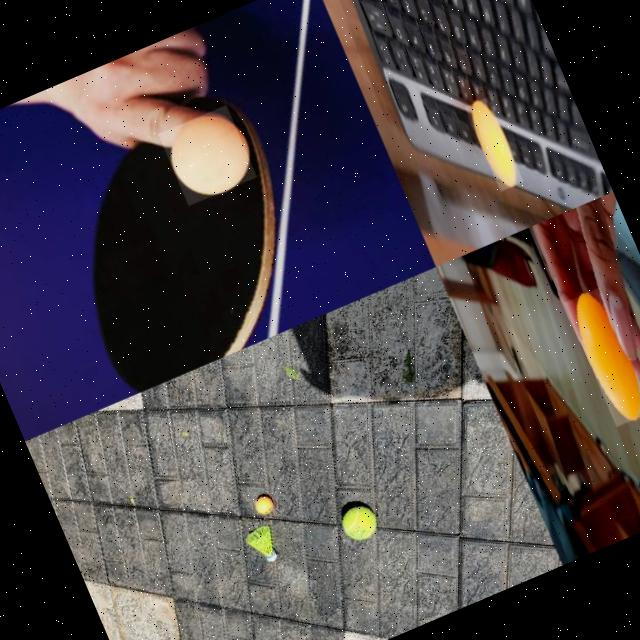ping-pong-ball: (563, 287, 640, 427), (157, 104, 258, 207), (464, 98, 523, 192), (252, 494, 272, 516)
